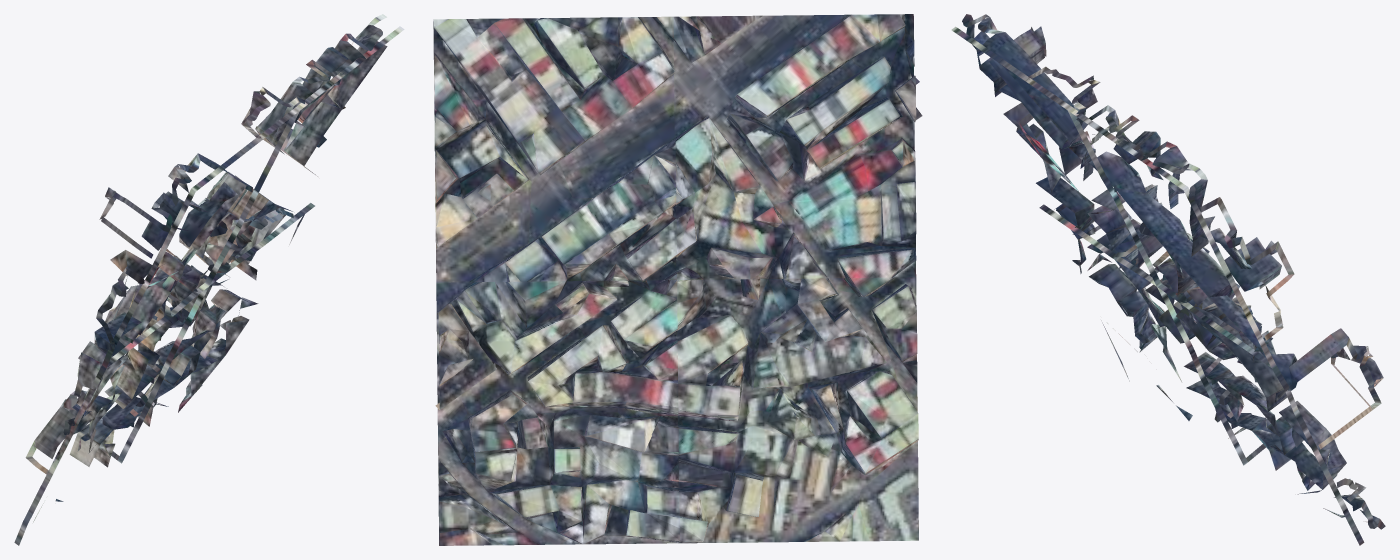
The picture shows the model from 3 angles, left to right: view 1: azimuth 30°, elevation 25°; view 2: azimuth 150°, elevation 25°; view 3: azimuth 270°, elevation 25°; orthographic projection. The views are drawn at different scales.
Size of the model in its own units: 305 by 289 by 271.
Materials: 1 (1 with a texture image).
